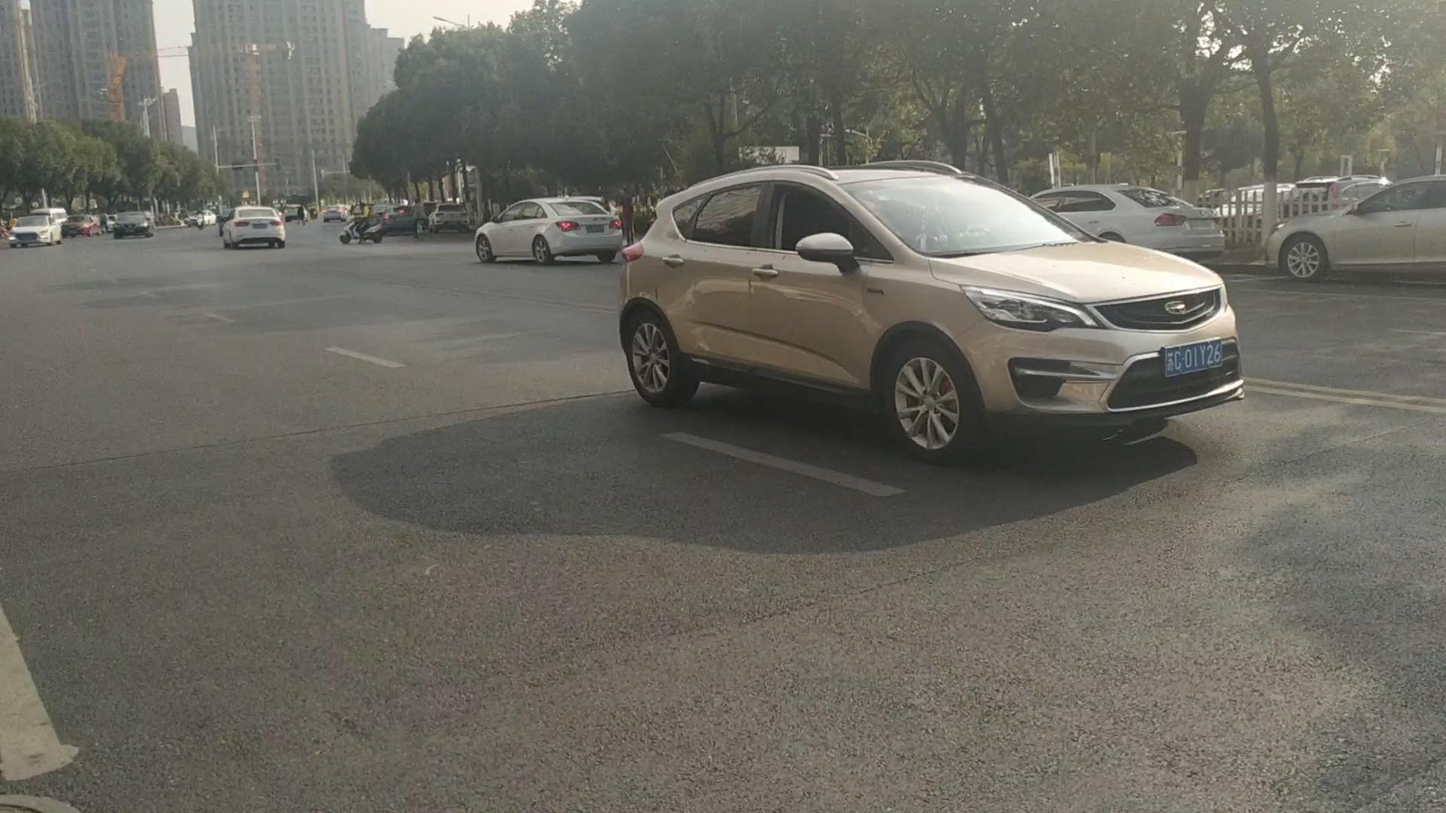car: (617, 160, 1246, 466), (1264, 177, 1444, 280), (1030, 182, 1228, 263), (1207, 177, 1368, 257), (473, 196, 625, 266), (220, 208, 287, 251), (7, 212, 65, 249), (422, 202, 471, 234), (110, 211, 154, 239), (69, 215, 102, 237), (191, 210, 218, 228), (321, 206, 345, 224), (179, 212, 201, 227)
